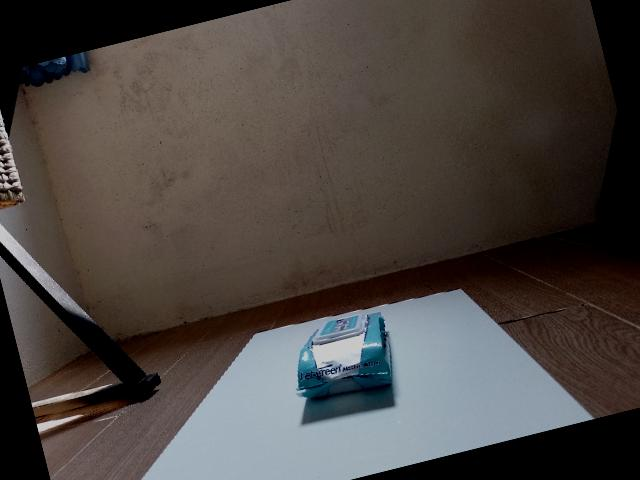Let-green_alcohol_wipes: (295, 312, 392, 398)
